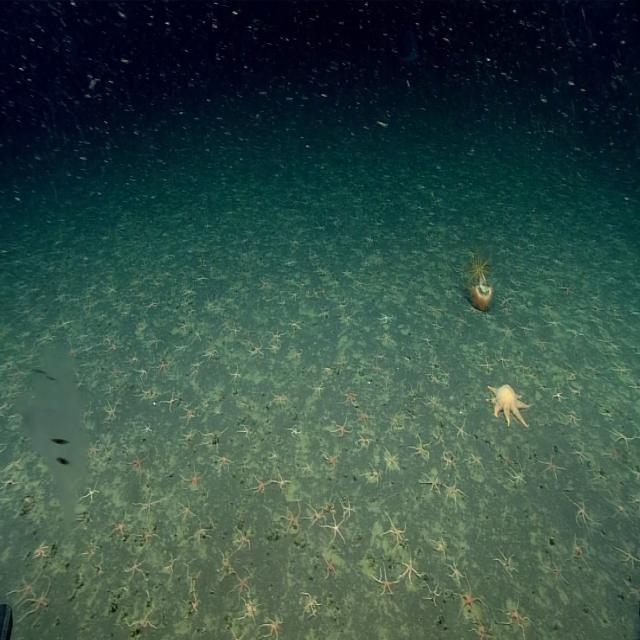brittle-stars: (569, 496, 598, 530), (456, 582, 483, 618), (67, 506, 98, 537), (501, 600, 529, 634), (31, 578, 52, 616), (158, 550, 180, 586), (134, 490, 161, 519), (232, 568, 254, 602), (374, 565, 397, 596), (278, 502, 300, 533), (399, 553, 419, 587), (616, 543, 640, 570), (14, 571, 37, 599), (384, 516, 406, 545), (180, 464, 204, 490), (538, 453, 561, 479), (131, 608, 156, 631), (85, 557, 108, 582), (580, 356, 605, 379), (262, 614, 284, 640), (495, 550, 516, 577), (127, 451, 150, 475), (2, 453, 25, 477), (611, 497, 632, 523), (445, 478, 465, 505), (569, 536, 587, 566), (318, 491, 339, 516), (302, 592, 322, 618), (328, 516, 347, 543), (546, 559, 568, 582), (470, 617, 492, 640), (126, 556, 147, 580), (612, 426, 636, 447), (410, 436, 431, 459), (202, 428, 225, 449), (110, 514, 128, 540), (306, 504, 326, 527), (240, 599, 260, 622), (310, 261, 330, 284), (421, 470, 440, 494), (235, 526, 253, 551), (384, 447, 401, 473), (362, 463, 382, 485), (138, 524, 158, 546), (130, 314, 150, 336), (596, 404, 616, 426), (176, 498, 195, 521), (447, 559, 465, 583), (150, 373, 163, 406), (332, 417, 352, 438), (214, 311, 233, 333), (217, 550, 233, 576), (194, 522, 212, 544), (100, 279, 118, 301), (424, 581, 441, 604), (83, 538, 100, 561), (322, 447, 339, 469), (83, 482, 100, 504), (562, 361, 578, 384), (453, 420, 471, 440), (570, 444, 588, 464), (604, 444, 622, 464), (509, 463, 526, 484), (323, 555, 337, 580), (274, 291, 288, 316), (251, 476, 269, 495), (423, 392, 441, 411), (33, 540, 51, 559), (1, 475, 19, 494), (355, 407, 371, 428), (104, 398, 119, 420), (271, 391, 290, 408), (215, 453, 232, 472), (341, 388, 358, 407), (563, 411, 582, 428), (184, 568, 200, 588), (186, 592, 200, 614), (273, 472, 290, 490), (155, 358, 172, 376), (386, 278, 403, 296), (318, 360, 334, 379), (164, 391, 179, 411), (88, 440, 103, 460), (412, 286, 427, 306), (388, 411, 402, 432), (610, 367, 628, 383), (341, 498, 355, 518), (239, 423, 255, 440), (356, 432, 372, 449), (467, 453, 483, 470), (36, 328, 53, 344), (58, 314, 74, 331), (495, 350, 510, 368), (542, 315, 560, 330), (628, 581, 640, 603), (500, 322, 516, 338), (271, 326, 287, 342), (106, 362, 122, 378), (5, 410, 21, 426), (568, 382, 584, 398), (182, 406, 196, 424), (434, 536, 448, 554), (231, 318, 242, 340), (629, 490, 640, 512), (311, 383, 326, 399), (518, 320, 534, 335), (146, 335, 162, 350), (454, 312, 469, 328), (230, 628, 250, 640), (481, 355, 495, 372), (432, 428, 445, 446), (408, 383, 420, 402), (517, 359, 532, 374), (286, 424, 301, 439), (288, 346, 302, 362), (532, 337, 548, 351), (83, 406, 97, 422), (137, 384, 150, 401), (231, 362, 242, 382), (444, 452, 456, 470), (181, 428, 196, 442), (204, 348, 219, 362), (268, 341, 282, 356), (559, 281, 574, 295), (136, 364, 150, 379), (250, 342, 263, 358), (205, 294, 218, 310), (629, 465, 640, 483), (182, 284, 196, 298), (106, 340, 120, 354), (380, 332, 394, 346), (288, 318, 302, 332), (554, 387, 567, 402), (191, 326, 203, 342), (302, 459, 314, 475), (68, 343, 80, 359), (174, 341, 188, 354), (379, 312, 393, 325), (343, 312, 357, 325), (56, 289, 70, 302), (604, 273, 618, 286), (427, 306, 442, 318), (439, 377, 449, 395), (0, 400, 10, 418), (178, 319, 190, 334), (195, 272, 210, 284), (422, 335, 434, 349), (430, 322, 444, 334), (501, 454, 513, 467), (146, 300, 159, 312), (128, 353, 140, 366), (190, 358, 202, 371), (224, 293, 236, 306), (374, 359, 384, 374), (384, 371, 394, 386), (630, 379, 640, 394), (540, 302, 552, 314), (82, 344, 94, 356), (342, 267, 353, 280), (243, 323, 254, 336), (428, 372, 439, 385), (261, 277, 272, 290), (499, 306, 512, 317), (314, 286, 324, 300), (368, 270, 379, 282), (354, 278, 365, 290), (132, 276, 143, 288), (427, 358, 438, 370), (442, 366, 452, 379), (270, 448, 279, 462), (500, 294, 511, 305), (142, 423, 152, 435), (289, 289, 299, 301), (528, 368, 538, 380), (296, 279, 306, 291), (135, 289, 147, 299), (339, 301, 349, 312), (284, 276, 294, 287), (0, 440, 5, 462), (243, 338, 252, 350)
